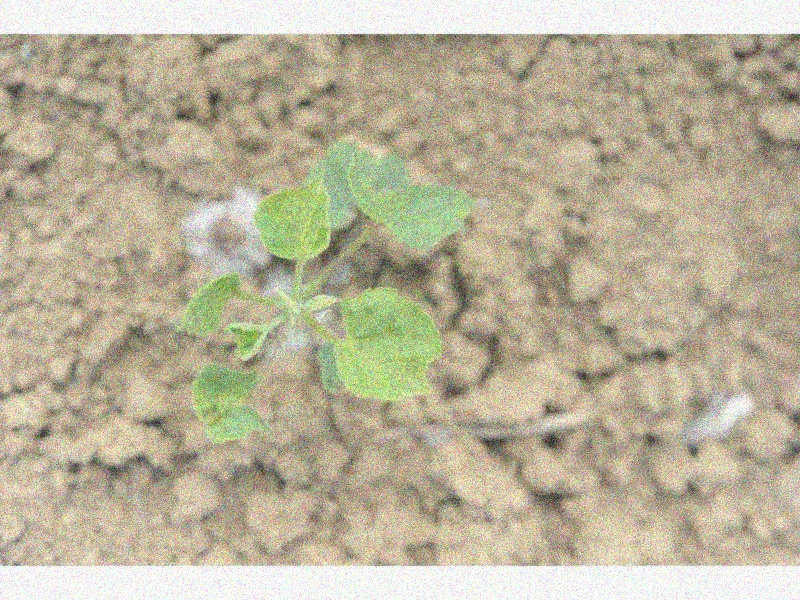velvet: (176, 141, 472, 444)
